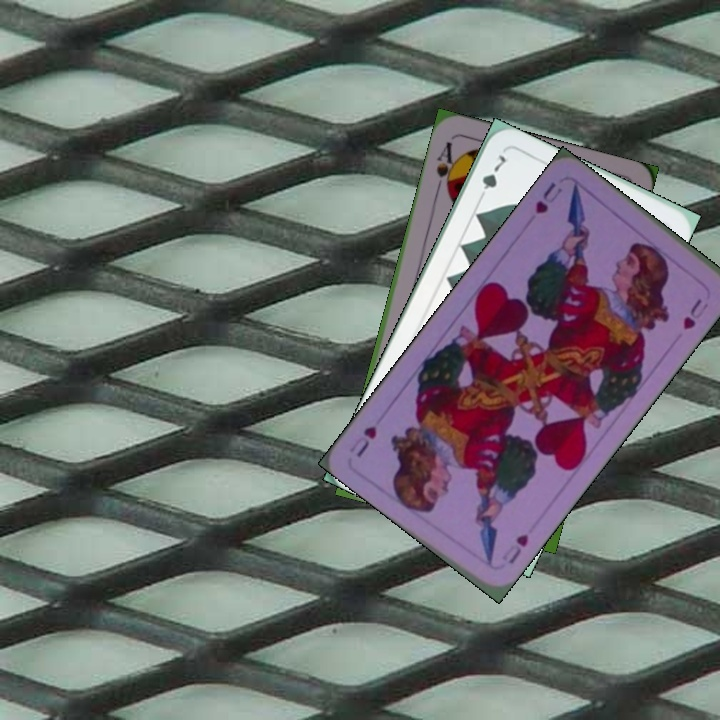G7: (476, 150, 509, 204)
HU: (531, 177, 565, 217), (497, 529, 531, 567)
SA: (431, 137, 460, 196)
